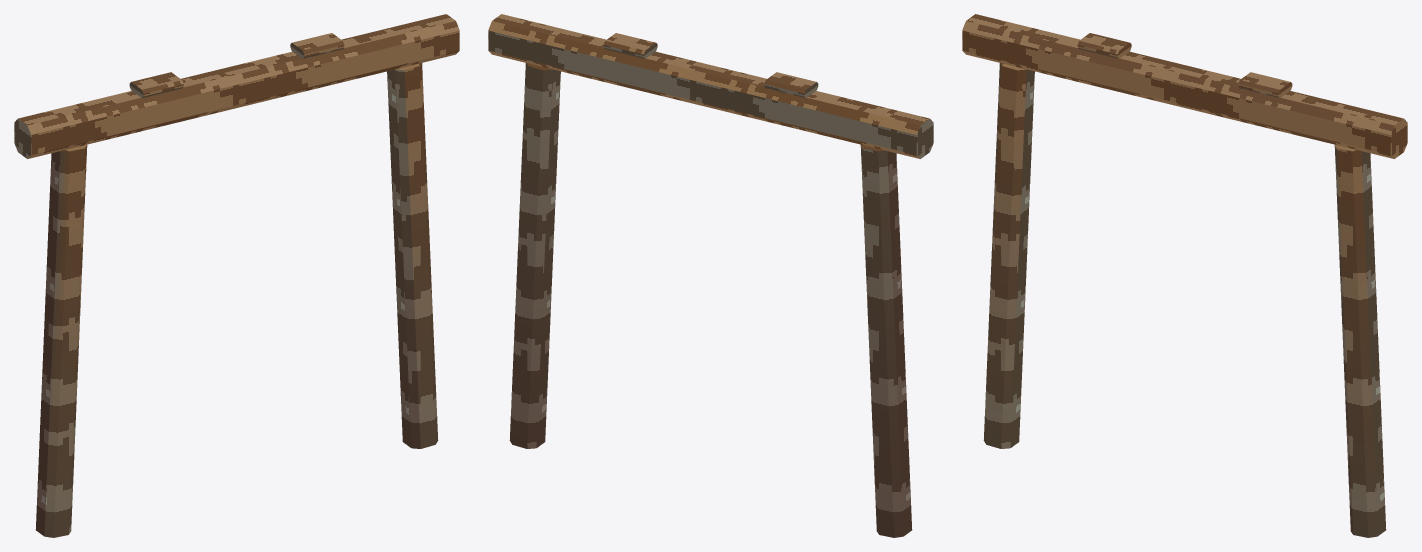
The model's file is wmine.timber_set.glb.
3 renders of one model, left to right at view 1: azimuth 30°, elevation 25°; view 2: azimuth 150°, elevation 25°; view 3: azimuth 330°, elevation 25°, orthographic.
Parts seen in each view (by area): view 1: kit_sets, kit_caps, kit_wedges; view 2: kit_sets, kit_caps, kit_wedges; view 3: kit_sets, kit_caps, kit_wedges.
Part boxes in pixels (left/top/right/bottom): kit_sets: left=35, top=63, right=438, bottom=537; kit_caps: left=14, top=14, right=459, bottom=158; kit_wedges: left=129, top=33, right=344, bottom=97; kit_sets: left=509, top=63, right=912, bottom=537; kit_caps: left=488, top=14, right=933, bottom=158; kit_wedges: left=603, top=33, right=818, bottom=97; kit_sets: left=983, top=63, right=1386, bottom=537; kit_caps: left=962, top=14, right=1407, bottom=158; kit_wedges: left=1077, top=33, right=1292, bottom=97.
Size of the model in its own units: 3.2 by 3.03 by 0.22.
Materials: 2 (2 with a texture image).
